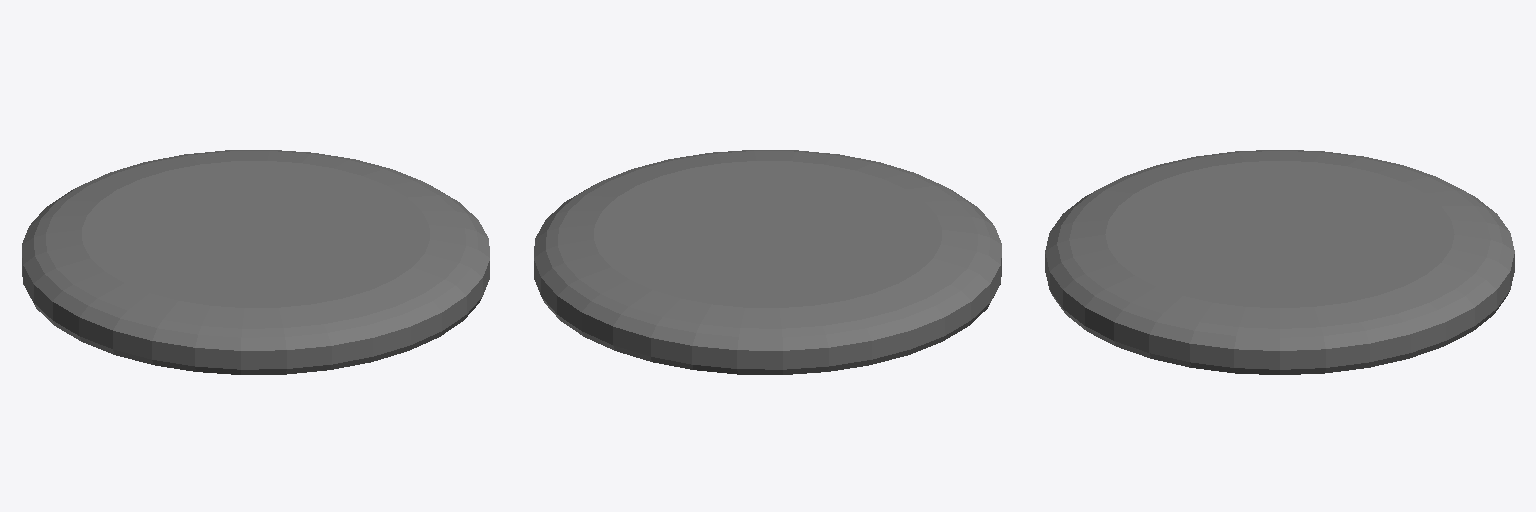
The model's file is frisbee.obj.
The picture shows the model from 3 angles: view 1: azimuth 30°, elevation 25°; view 2: azimuth 150°, elevation 25°; view 3: azimuth 270°, elevation 25°; orthographic projection.
Visible parts, largest first — view 1: g frisbee:Mesh_frisbee:Mesh; view 2: g frisbee:Mesh_frisbee:Mesh; view 3: g frisbee:Mesh_frisbee:Mesh.
Part boxes in pixels (left/top/right/bottom): g frisbee:Mesh_frisbee:Mesh: left=22, top=150, right=489, bottom=374; g frisbee:Mesh_frisbee:Mesh: left=534, top=150, right=1001, bottom=374; g frisbee:Mesh_frisbee:Mesh: left=1045, top=150, right=1514, bottom=374.
Bounding box in the file's own units: 2.69 × 0.2718 × 2.69.